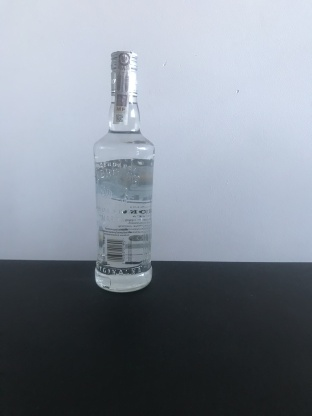nakretka: (108, 46, 140, 98)
